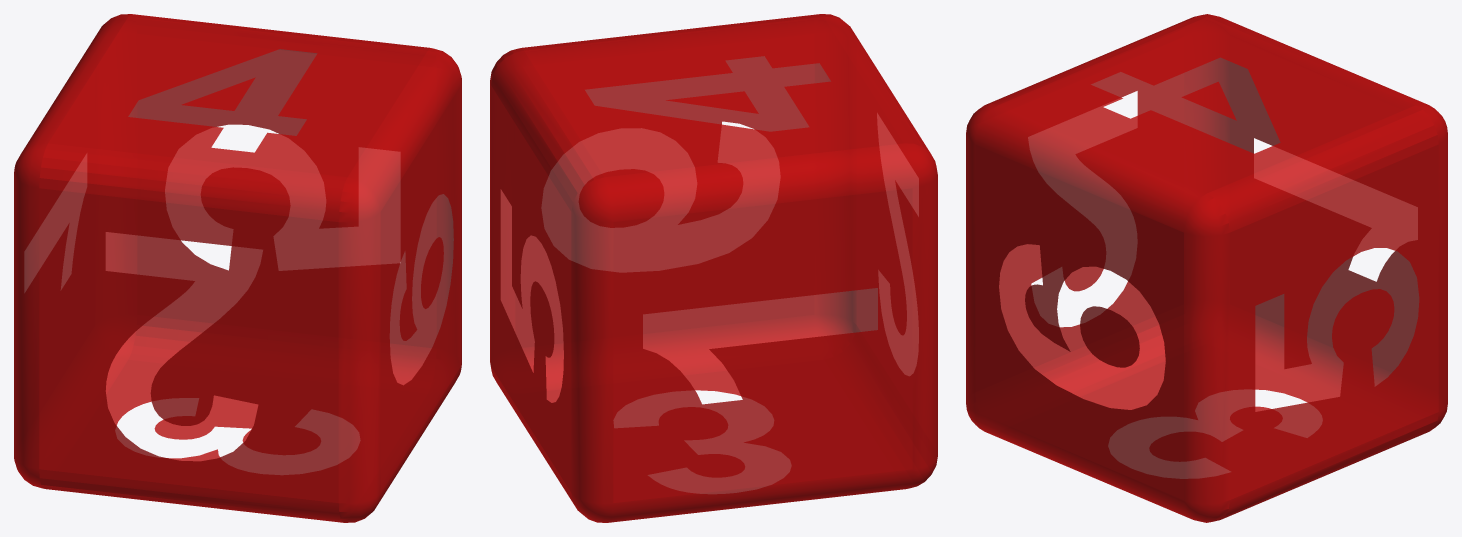
Rendered from d6_numbers_square_lowpoly.fbx.
3 renders of one model, left to right at view 1: azimuth 30°, elevation 25°; view 2: azimuth 150°, elevation 25°; view 3: azimuth 270°, elevation 25°, orthographic. The views are drawn at different scales.
Visible parts, largest first — view 1: 6_Sided_Nu; view 2: 6_Sided_Nu; view 3: 6_Sided_Nu.
Boxes of the visible parts, x1,y1,x2,y2 form: 6_Sided_Nu: (14,14,461,522); 6_Sided_Nu: (490,14,937,522); 6_Sided_Nu: (966,14,1447,522).
Size of the model in its own units: 11.15 by 8.34 by 11.15.
